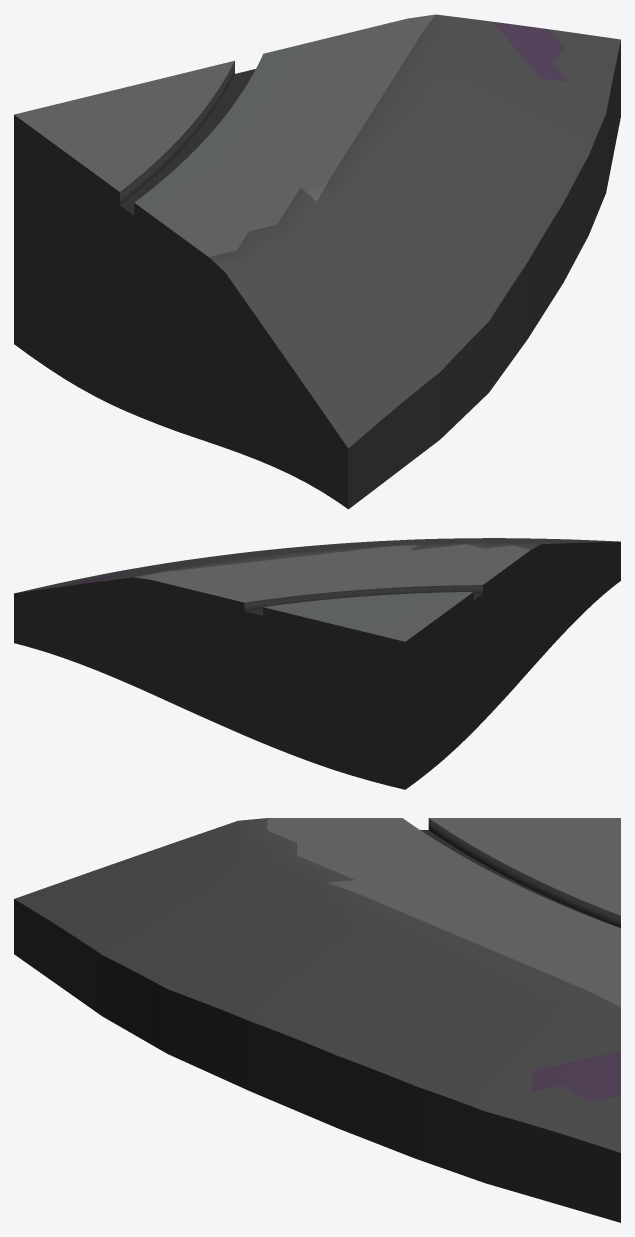
File: camanis_boss_160.glb
3 views of the same model, one above another, from view 1: azimuth 30°, elevation 25°; view 2: azimuth 150°, elevation 25°; view 3: azimuth 270°, elevation 25° (orthographic). The views are drawn at different scales.
Parts seen in each view (by area): view 1: camanis_boss_160; view 2: camanis_boss_160; view 3: camanis_boss_160.
Boxes of the visible parts, x1,y1,x2,y2 form: camanis_boss_160: (14,14,620,509); camanis_boss_160: (14,538,620,789); camanis_boss_160: (14,818,620,1222).
Size of the model in its own units: 21.58 by 7.8 by 20.6.
